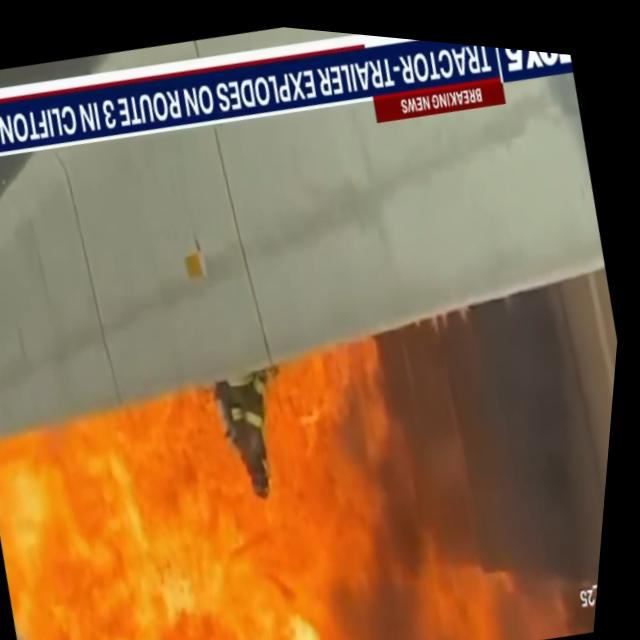Fire: (8, 419, 552, 640), (246, 335, 456, 640), (1, 464, 325, 640), (0, 369, 255, 545)
